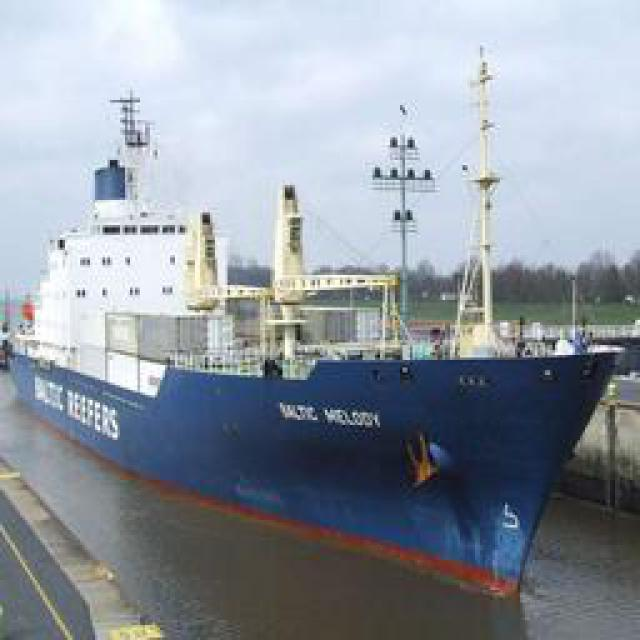Ship: (15, 25, 625, 603)
